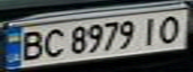7: (100, 19, 124, 52)
8: (66, 22, 87, 56)
9: (115, 17, 142, 51), (84, 21, 106, 54)
B: (12, 28, 48, 63)
C: (39, 26, 69, 60)
I: (136, 15, 163, 46)
O: (151, 12, 187, 45)
